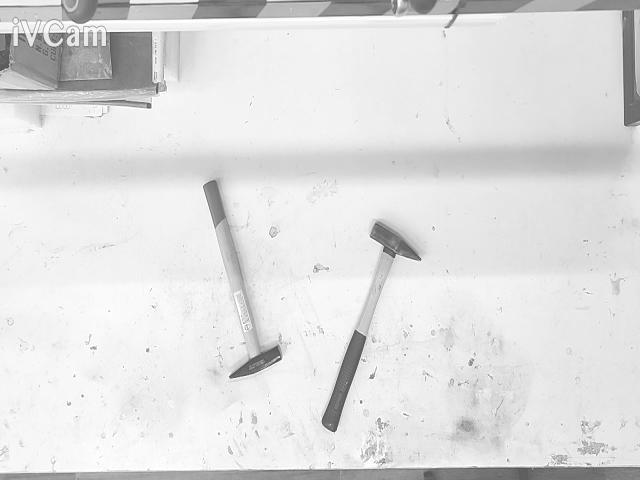Hammer: (321, 222, 421, 432), (204, 180, 282, 379)
